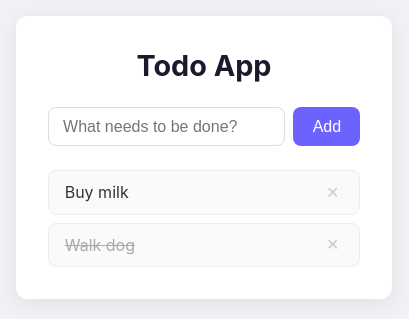
Scenario: App — deleting a todo › removes the todo from the list on delete
Check: the text "Buy milk" is shown, box [65,182,129,202]
Step 1. Click the button named "delete" → x=333, y=192, box [322,183,343,202]
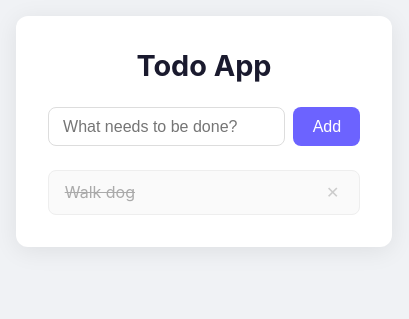
Check: the text "Buy milk" is gone
